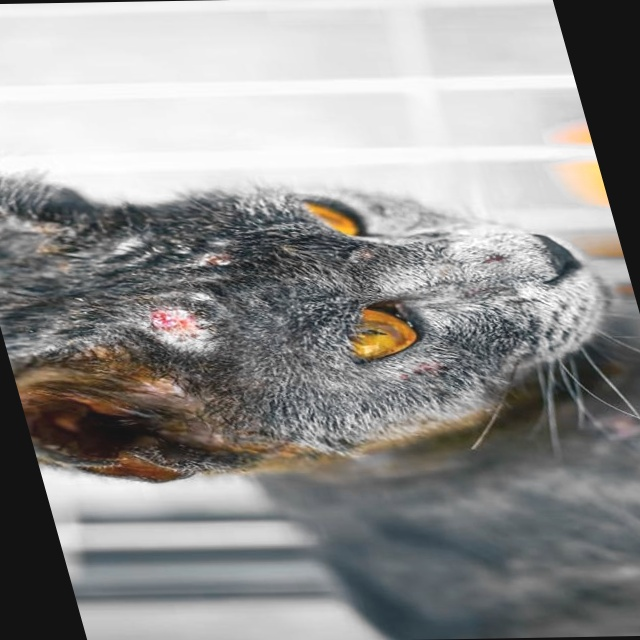ringworm: (146, 289, 236, 368), (194, 251, 234, 265)
